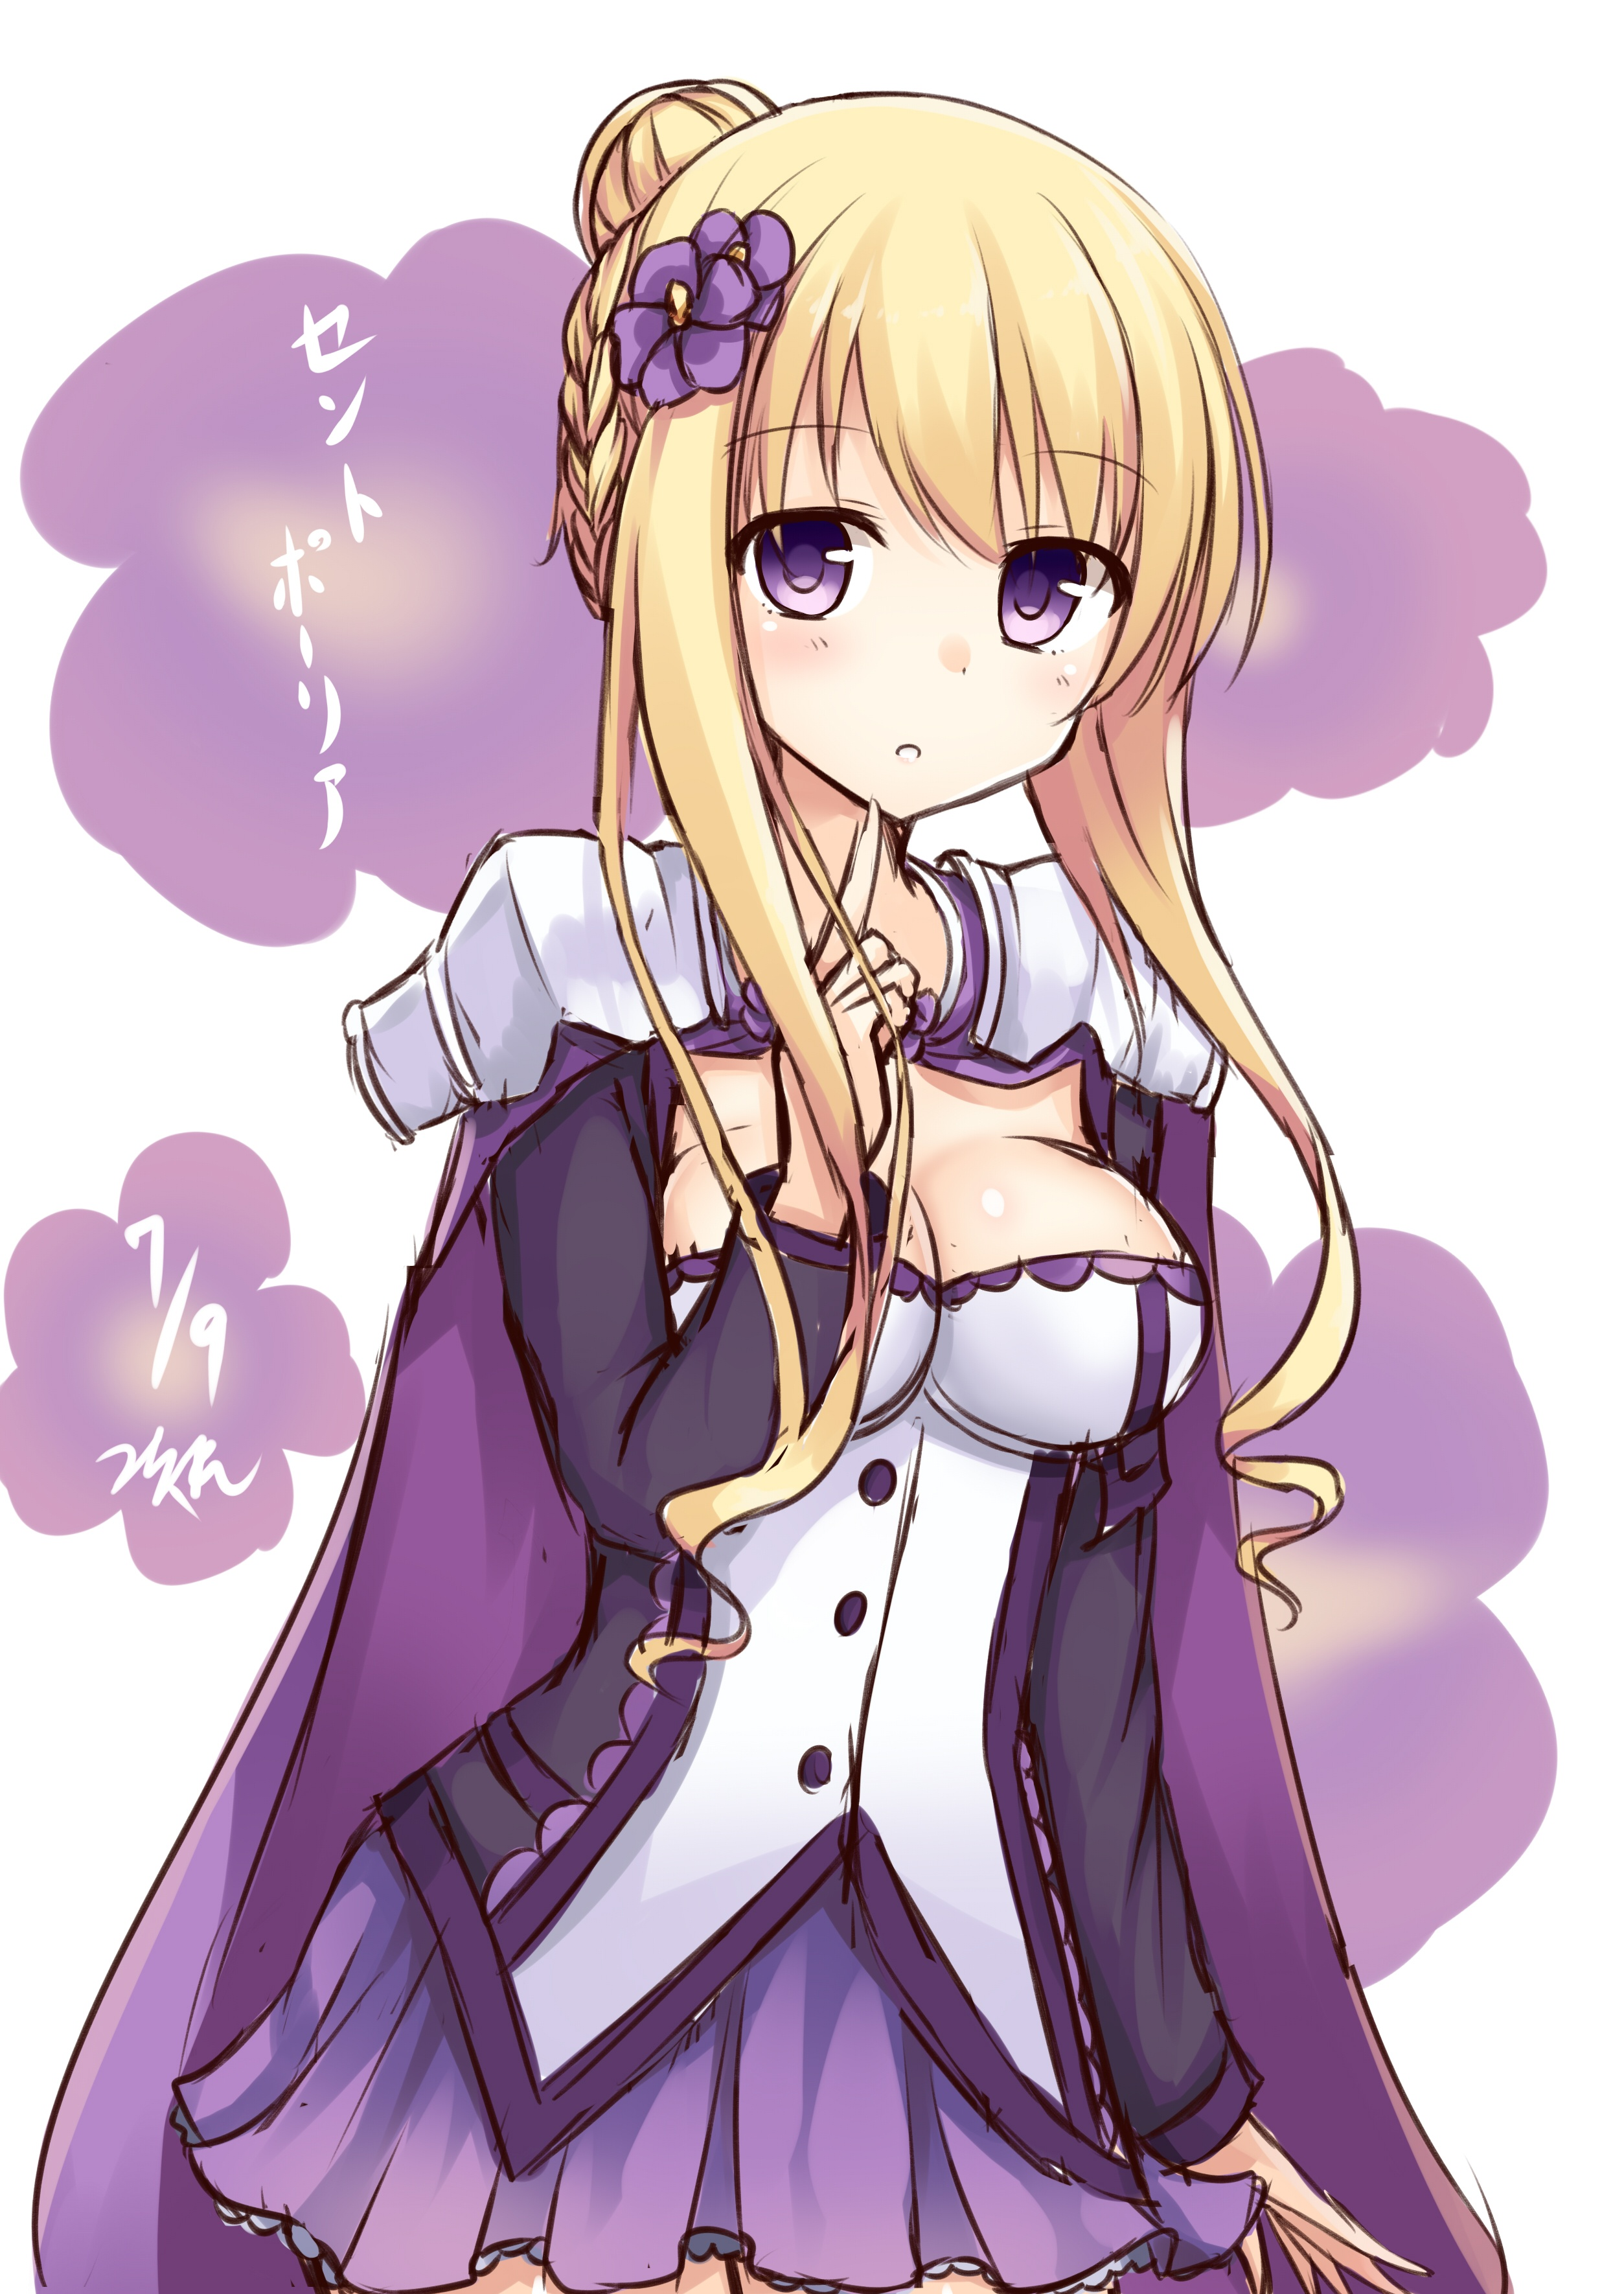纸片人正脸: (545, 91, 1271, 834)
